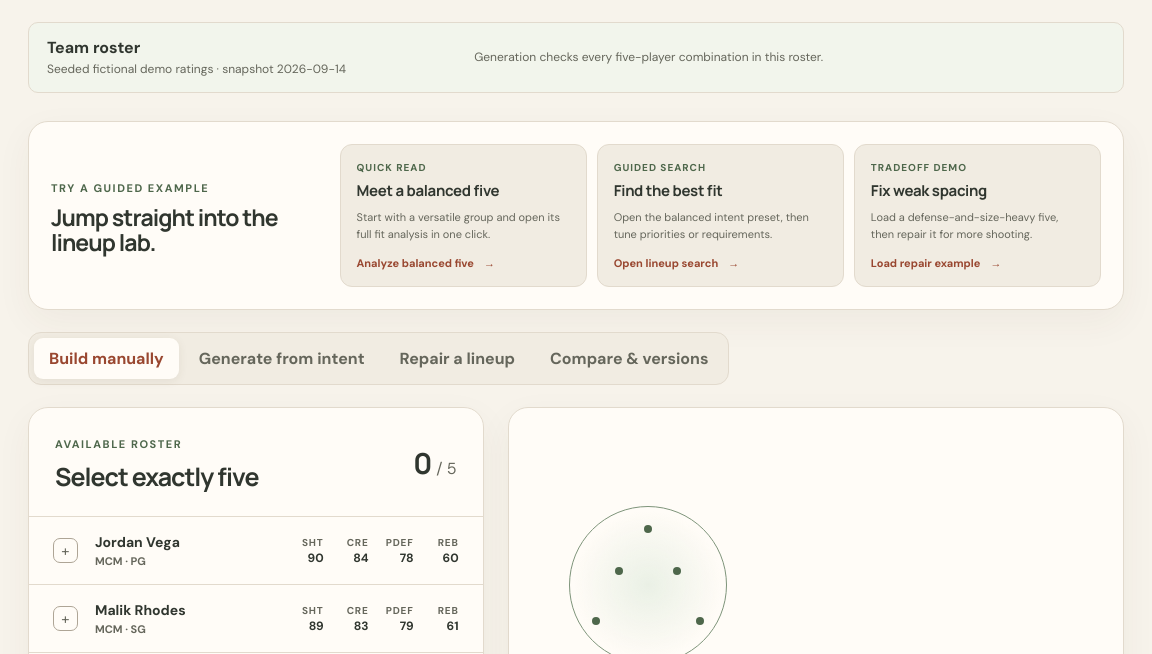
Scenario: structured lineup generation › keeps the manual selection workflow available after visiting generation
(page scrolled)
Expected: the button with aria-label "Select Jordan Vega" is shown, [29, 518, 483, 586]
Click the tab "Generate from intent": click(282, 359) [184, 338, 380, 380]
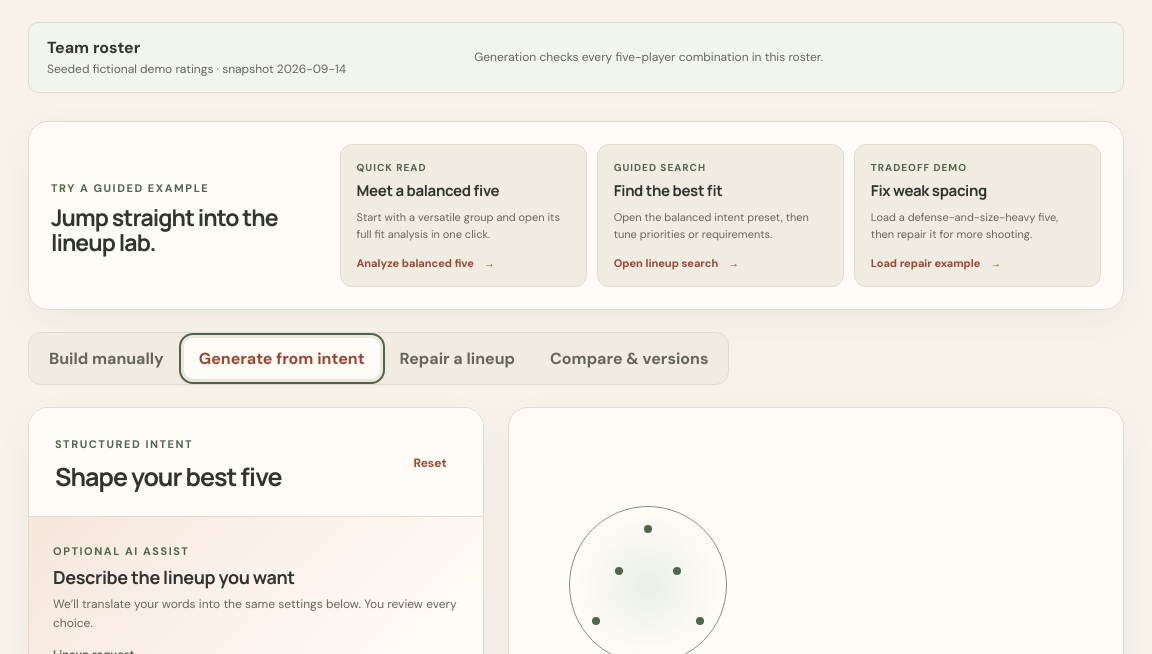
Click the tab "Build manually": click(106, 359) [34, 338, 179, 380]
(page scrolled)
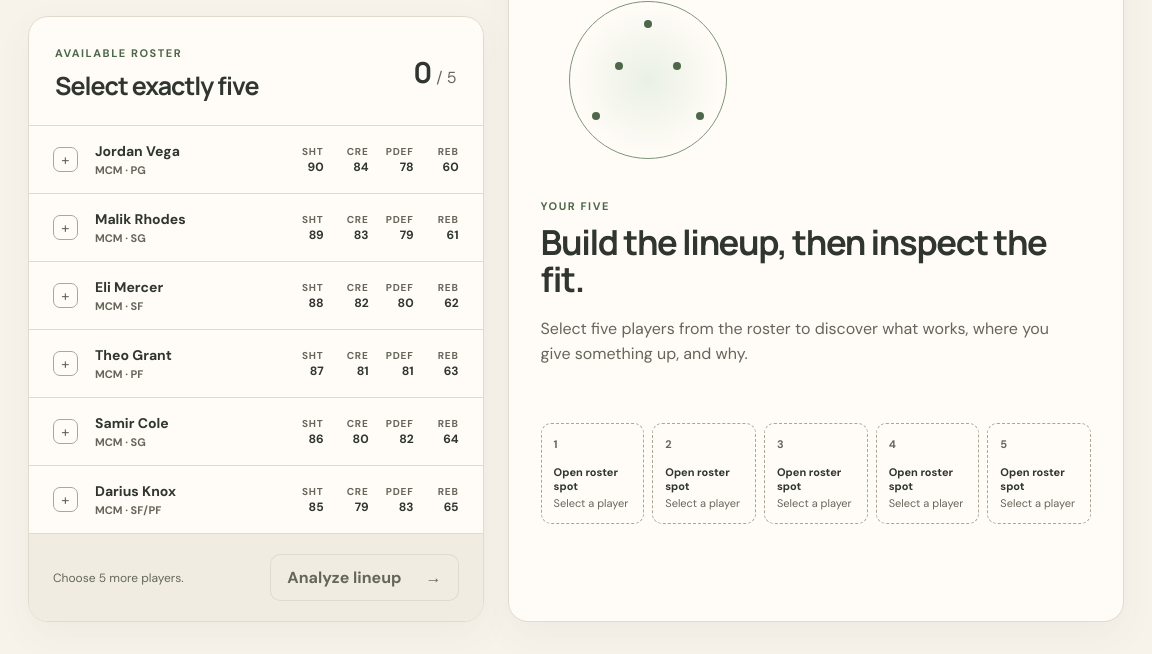
Now the button with aria-label "Select Jordan Vega" is shown, box [29, 126, 483, 194]
Now the button "Analyze lineup →" is disabled, box [270, 554, 459, 601]
